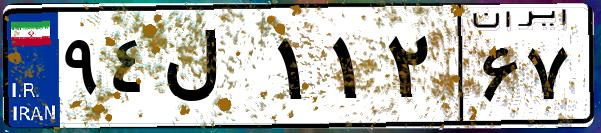1: (270, 28, 330, 110), (330, 28, 385, 110)
2: (385, 28, 445, 110)
4: (110, 28, 158, 98)
6: (475, 38, 525, 113)
7: (525, 38, 570, 115)
9: (57, 26, 110, 100)
ل: (158, 20, 270, 120)
